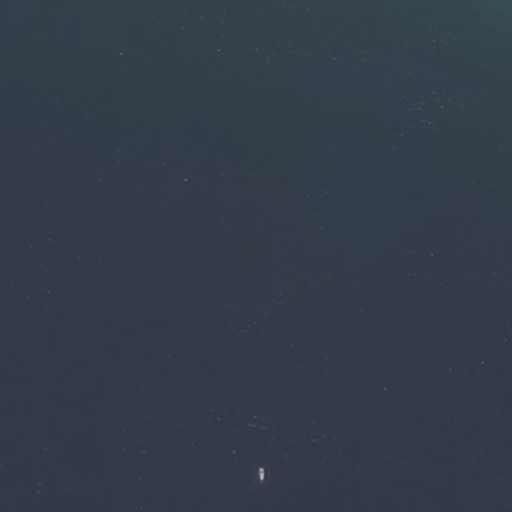ship: (255, 462, 268, 484)
